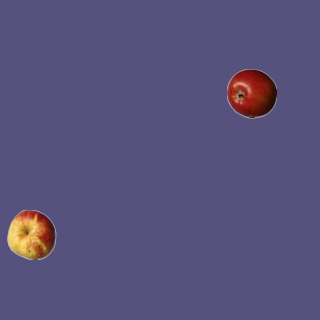Apple Braeburn: (226, 68, 276, 118)
Apple Red Yellow 1: (6, 209, 56, 259)
